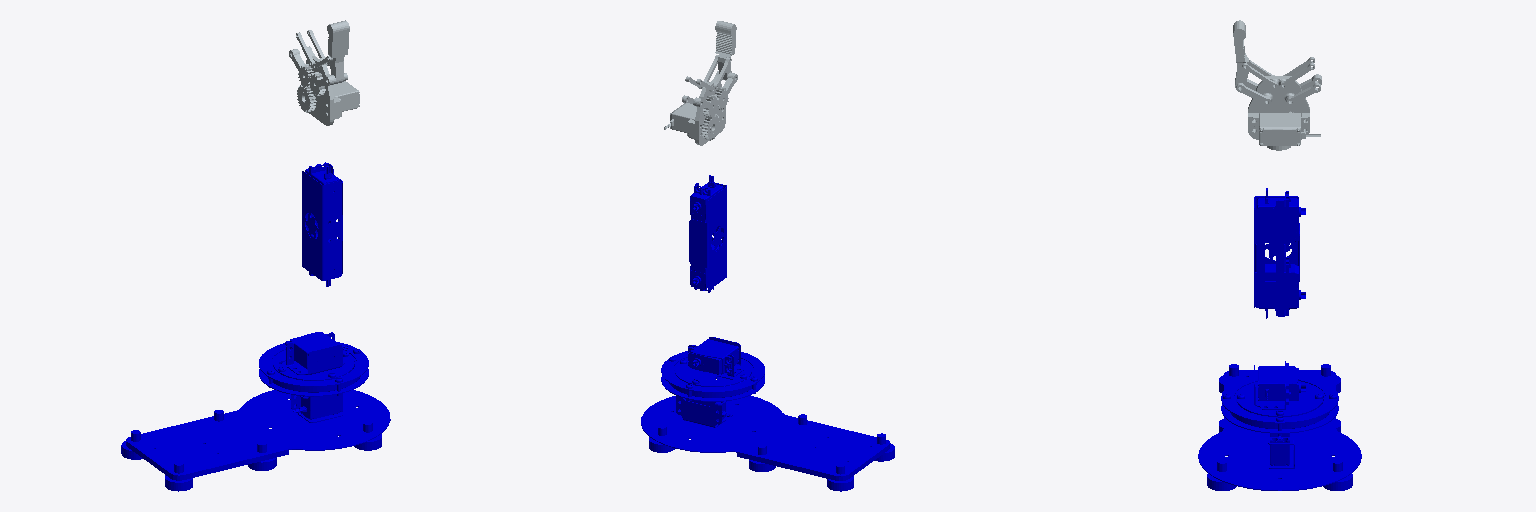
URDF robot description (robox_arm):
<?xml version="1.0" encoding="utf-8"?>
<robot name="robox_arm">


  <!-- Add this after link_five -->
<link name="ik_frame">
  <!-- This can be empty or have minimal inertial properties -->
  <inertial>
    <origin xyz="0 0 0" rpy="0 0 0" />
    <mass value="0.001" />
    <inertia ixx="1e-6" ixy="0" ixz="0" iyy="1e-6" iyz="0" izz="1e-6" />
  </inertial>
</link>

<joint name="link_five_to_ik_frame" type="fixed">
  <origin xyz="-0.015 0.0 0.1" rpy="0 0 0" />
  <parent link="link_five" />
  <child link="ik_frame" />
</joint>



  <link name="world" />
  <joint name="world_to_base" type="fixed">
    <parent link="world" />
    <child link="base_link" />
    <origin xyz=" -0.09191  0.125 -0.015" rpy="0 0 0" />
  </joint>
  <link name="base_link">
    <inertial>
      <origin xyz="-0.0334185417734068 0.000387038994720544 0.0314489504139099" rpy="0 0 0" />
      <mass value="0.446165792554974" />
      <inertia ixx="0.000377604195091325" ixy="1.5002286725277E-07" ixz="3.39719956827626E-08" iyy="0.000575990291491252" iyz="-4.62907243003046E-07" izz="0.000932227302367943" />
    </inertial>
    <visual>
      <origin xyz="0 0 0" rpy="0 0 0" />
      <geometry>
        <mesh filename="package://robox_arm/meshes/base_link.STL" />
      </geometry>
      <material name="">
        <color rgba="0.0 0.0 0.933333333333333 1" />
      </material>
    </visual>
    <collision>
      <origin xyz="0 0 0" rpy="0 0 0" />
      <geometry>
        <mesh filename="package://robox_arm/meshes/base_link.STL" />
      </geometry>
    </collision>
  </link>
  <link name="link_one">
    <inertial>
      <origin xyz="-6.03622970718007E-06 -0.00521662588863068 0.0257879622486223" rpy="0 0 0" />
      <mass value="0.0668932541241872" />
      <inertia ixx="1.48670587538434E-05" ixy="-1.64856890592254E-07" ixz="-2.11950827848722E-11" iyy="1.80390144856992E-05" iyz="4.60310653530523E-07" izz="2.74670730418135E-05" />
    </inertial>
    <visual>
      <origin xyz="0 0 0" rpy="0 0 0" />
      <geometry>
        <mesh filename="package://robox_arm/meshes/link_one.STL" />
      </geometry>
      <material name="">
        <color rgba="0.0 0.0 0.933333333333333 1" />
      </material>
    </visual>
    <collision>
      <origin xyz="0 0 0" rpy="0 0 0" />
      <geometry>
        <mesh filename="package://robox_arm/meshes/link_one.STL" />
      </geometry>
    </collision>
  </link>
  <joint name="joint_one" type="revolute">
    <origin xyz="0 0 0.0466" rpy="0 0 0" />
    <parent link="base_link" />
    <child link="link_one" />
    <axis xyz="0 0 -1" />
    <limit lower="-1.57" upper="1.57" effort="100" velocity="1.0" />
  </joint>
  <link name="link_two">
    <inertial>
      <origin xyz="-0.00395375026056333 -0.0261174627773937 0.050000000000004" rpy="0 0 0" />
      <mass value="0.0422835365975947" />
      <inertia ixx="5.89921114741114E-05" ixy="6.97908192319894E-08" ixz="2.03660766696015E-19" iyy="3.9772332084034E-05" iyz="-3.28467652830113E-20" izz="2.5539223828081E-05" />
    </inertial>
    <visual>
      <origin xyz="0 0 0" rpy="0 0 0" />
      <geometry>
        <mesh filename="package://robox_arm/meshes/link_two.STL" />
      </geometry>
      <material name="">
        <color rgba="0.0 0.0 0.933333333333333 1" />
      </material>
    </visual>
    <collision>
      <origin xyz="0 0 0" rpy="0 0 0" />
      <geometry>
        <mesh filename="package://robox_arm/meshes/link_two.STL" />
      </geometry>
    </collision>
  </link>
  <joint name="joint_two" type="revolute">
    <origin xyz="0.00949999999999964 0.0247000000000005 0.03197" rpy="0 0 0" />
    <parent link="link_one" />
    <child link="link_two" />
    <axis xyz="0 -1 0" />
    <limit lower="-1.307" upper="0.617" effort="100" velocity="1.0" />
  </joint>
  <link name="link_three">
    <inertial>
      <origin xyz="-0.00130547761778302 -0.0296809745011252 0.0450025336216375" rpy="0 0 0" />
      <mass value="0.13493320864261" />
      <inertia ixx="0.000101277084289936" ixy="1.06896096466094E-06" ixz="1.9122530405454E-09" iyy="8.18401383142468E-05" iyz="-1.20327532021426E-09" izz="3.06279251273651E-05" />
    </inertial>
    <visual>
      <origin xyz="0 0 0" rpy="0 0 0" />
      <geometry>
        <mesh filename="package://robox_arm/meshes/link_three.STL" />
      </geometry>
      <material name="">
        <color rgba="0 0 0.933333333333333 1" />
      </material>
    </visual>
    <collision>
      <origin xyz="0 0 0" rpy="0 0 0" />
      <geometry>
        <mesh filename="package://robox_arm/meshes/link_three.STL" />
      </geometry>
    </collision>
  </link>
  <joint name="joint_three" type="revolute">
    <origin xyz="0 0.000700000000000298 0.100000000000001" rpy="0 0 0" />
    <parent link="link_two" />
    <child link="link_three" />
    <axis xyz="0 -1 0" />
    <limit lower="-1.57" upper="1.57" effort="100" velocity="1.0" />
  </joint>
  <link name="link_four">
    <inertial>
      <origin xyz="0.000231063846424276 -0.0264803282154438 0.0477744454869917" rpy="0 0 0" />
      <mass value="0.0447180488708645" />
      <inertia ixx="1.67748714277602E-05" ixy="2.1197715357756E-11" ixz="-3.39708625518307E-08" iyy="1.67225833712195E-05" iyz="-1.14245221974723E-07" izz="1.41082751627853E-05" />
    </inertial>
    <visual>
      <origin xyz="0 0 0" rpy="0 0 0" />
      <geometry>
        <mesh filename="package://robox_arm/meshes/link_four.STL" />
      </geometry>
      <material name="">
        <color rgba="0.0 0.0 0.933333333333333 1" />
      </material>
    </visual>
    <collision>
      <origin xyz="0 0 0" rpy="0 0 0" />
      <geometry>
        <mesh filename="package://robox_arm/meshes/link_four.STL" />
      </geometry>
    </collision>
  </link>
  <joint name="joint_four" type="revolute">
    <origin xyz="0 0 0.0900000000000024" rpy="0 0 0" />
    <parent link="link_three" />
    <child link="link_four" />
    <axis xyz="0 -1 0" />
    <limit lower="-1.57" upper="1.57" effort="100" velocity="1.0" />
  </joint>
  <link name="link_five">
    <inertial>
      <origin xyz="-0.0053487746024533 0.000816136547311788 0.031618982814421" rpy="0 0 0" />
      <mass value="0.067532070571742" />
      <inertia ixx="2.03298597613589E-05" ixy="-1.0267674972768E-09" ixz="9.64129370372415E-07" iyy="1.07589999406465E-05" iyz="-2.00951540427755E-07" izz="1.25282391022449E-05" />
    </inertial>
    <visual>
      <origin xyz="0 0 0" rpy="0 0 0" />
      <geometry>
        <mesh filename="package://robox_arm/meshes/link_five.STL" />
      </geometry>
      <material name="">
        <color rgba="0.737 0.776 0.800 1" />
      </material>
    </visual>
    <collision>
      <origin xyz="0 0 0" rpy="0 0 0" />
      <geometry>
        <mesh filename="package://robox_arm/meshes/link_five.STL" />
      </geometry>
    </collision>
  </link>
  <joint name="joint_five" type="revolute">
    <origin xyz="0.00975000000002091 -0.0263999999999991 0.0726000000000027" rpy="0 0 0" />
    <parent link="link_four" />
    <child link="link_five" />
    <axis xyz="0 0 -1" />
    <limit lower="-1.57" upper="1.57" effort="100" velocity="1.0" />
  </joint>
  

  
  <link name="link_six">
    <inertial>
      <origin xyz="-7.04166355173369E-09 0.00538295031234353 -0.0219879956622193" rpy="0 0 0" />
      <mass value="0.0100926857205057" />
      <inertia ixx="3.69526754574355E-06" ixy="-1.11193490795298E-13" ixz="-6.64808079689313E-13" iyy="3.84164503737558E-06" iyz="-1.94557811545775E-07" izz="3.61559746771212E-07" />
    </inertial>
    <visual>
      <origin xyz="0 0 0" rpy="0 0 0" />
      <geometry>
        <mesh filename="package://robox_arm/meshes/link_six.STL" />
      </geometry>
      <material name="">
        <color rgba="0.737 0.776 0.800 1" />
      </material>
    </visual>
    <collision>
      <origin xyz="0 0 0" rpy="0 0 0" />
      <geometry>
        <mesh filename="package://robox_arm/meshes/link_six.STL" />
      </geometry>
    </collision>
  </link>
  <joint name="joint_six" type="prismatic">
    <origin xyz="-0.0125000000000004 0.0320459025242005 0.120525308883549" rpy="0 0 0" />
    <parent link="link_five" />
    <child link="link_six" />
    <axis xyz="0 1 0" />
    <limit lower="-1.221" upper="0.097" effort="1" velocity="1.0" />
  </joint>
  <link name="link_seven">
    <inertial>
      <origin xyz="7.04161882969512E-09 -0.00538295031233112 -0.0219879956622221" rpy="0 0 0" />
      <mass value="0.0100926857205057" />
      <inertia ixx="3.69526754574355E-06" ixy="-1.1119349082246E-13" ixz="6.64808080442258E-13" iyy="3.84164503737538E-06" iyz="1.94557811547591E-07" izz="3.61559746771416E-07" />
    </inertial>
    <visual>
      <origin xyz="0 0 0" rpy="0 0 0" />
      <geometry>
        <mesh filename="package://robox_arm/meshes/link_seven.STL" />
      </geometry>
      <material name="">
        <color rgba="0.737 0.776 0.800 1" />
      </material>
    </visual>
    <collision>
      <origin xyz="0 0 0" rpy="0 0 0" />
      <geometry>
        <mesh filename="package://robox_arm/meshes/link_seven.STL" />
      </geometry>
    </collision>
  </link>
  <joint name="joint_seven" type="prismatic">
    <origin xyz="-0.0124999999999996 -0.0322959025242393 0.120525308883539" rpy="0 0 0" />
    <parent link="link_five" />
    <child link="link_seven" />
    <axis xyz="0 -1 0" />
    <limit lower="-1.221" upper="0.097" effort="1" velocity="1.0" />
  </joint>
</robot>

--- Facts derived from the render (not from the file) ---
Views: 3 orthographic renders of the robot side by side, from view 1: azimuth 30°, elevation 25°; view 2: azimuth 150°, elevation 25°; view 3: azimuth 270°, elevation 25°.
Model robox_arm with 10 links and 9 joints (5 revolute, 2 prismatic, 2 fixed), rooted at world, posed every joint at zero.
Visible links, largest first — view 1: base_link, link_three, link_five, link_one, link_seven; view 2: base_link, link_three, link_five, link_one, link_seven; view 3: base_link, link_three, link_five, link_one, link_seven.
Boxes of the visible links, x1,y1,x2,y2 form: base_link: [121, 341, 390, 491]; link_three: [302, 162, 342, 286]; link_five: [289, 30, 359, 125]; link_one: [273, 332, 354, 380]; link_seven: [327, 20, 349, 83]; base_link: [641, 350, 894, 491]; link_three: [689, 175, 726, 292]; link_five: [664, 55, 737, 145]; link_one: [675, 337, 751, 386]; link_seven: [715, 21, 736, 80]; base_link: [1198, 364, 1361, 490]; link_three: [1254, 188, 1305, 318]; link_five: [1235, 57, 1321, 150]; link_one: [1237, 361, 1322, 416]; link_seven: [1233, 20, 1249, 87].
Size in the robot's own frame: 0.2831 by 0.16 by 0.4836 metres.
5 mesh visuals loaded from 8 distinct referenced files (5 binary STL); not drawn: 3 (file found but could not be loaded).